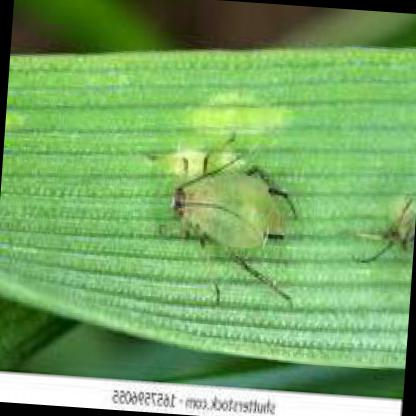schizaphis graminum: (170, 137, 281, 251)
